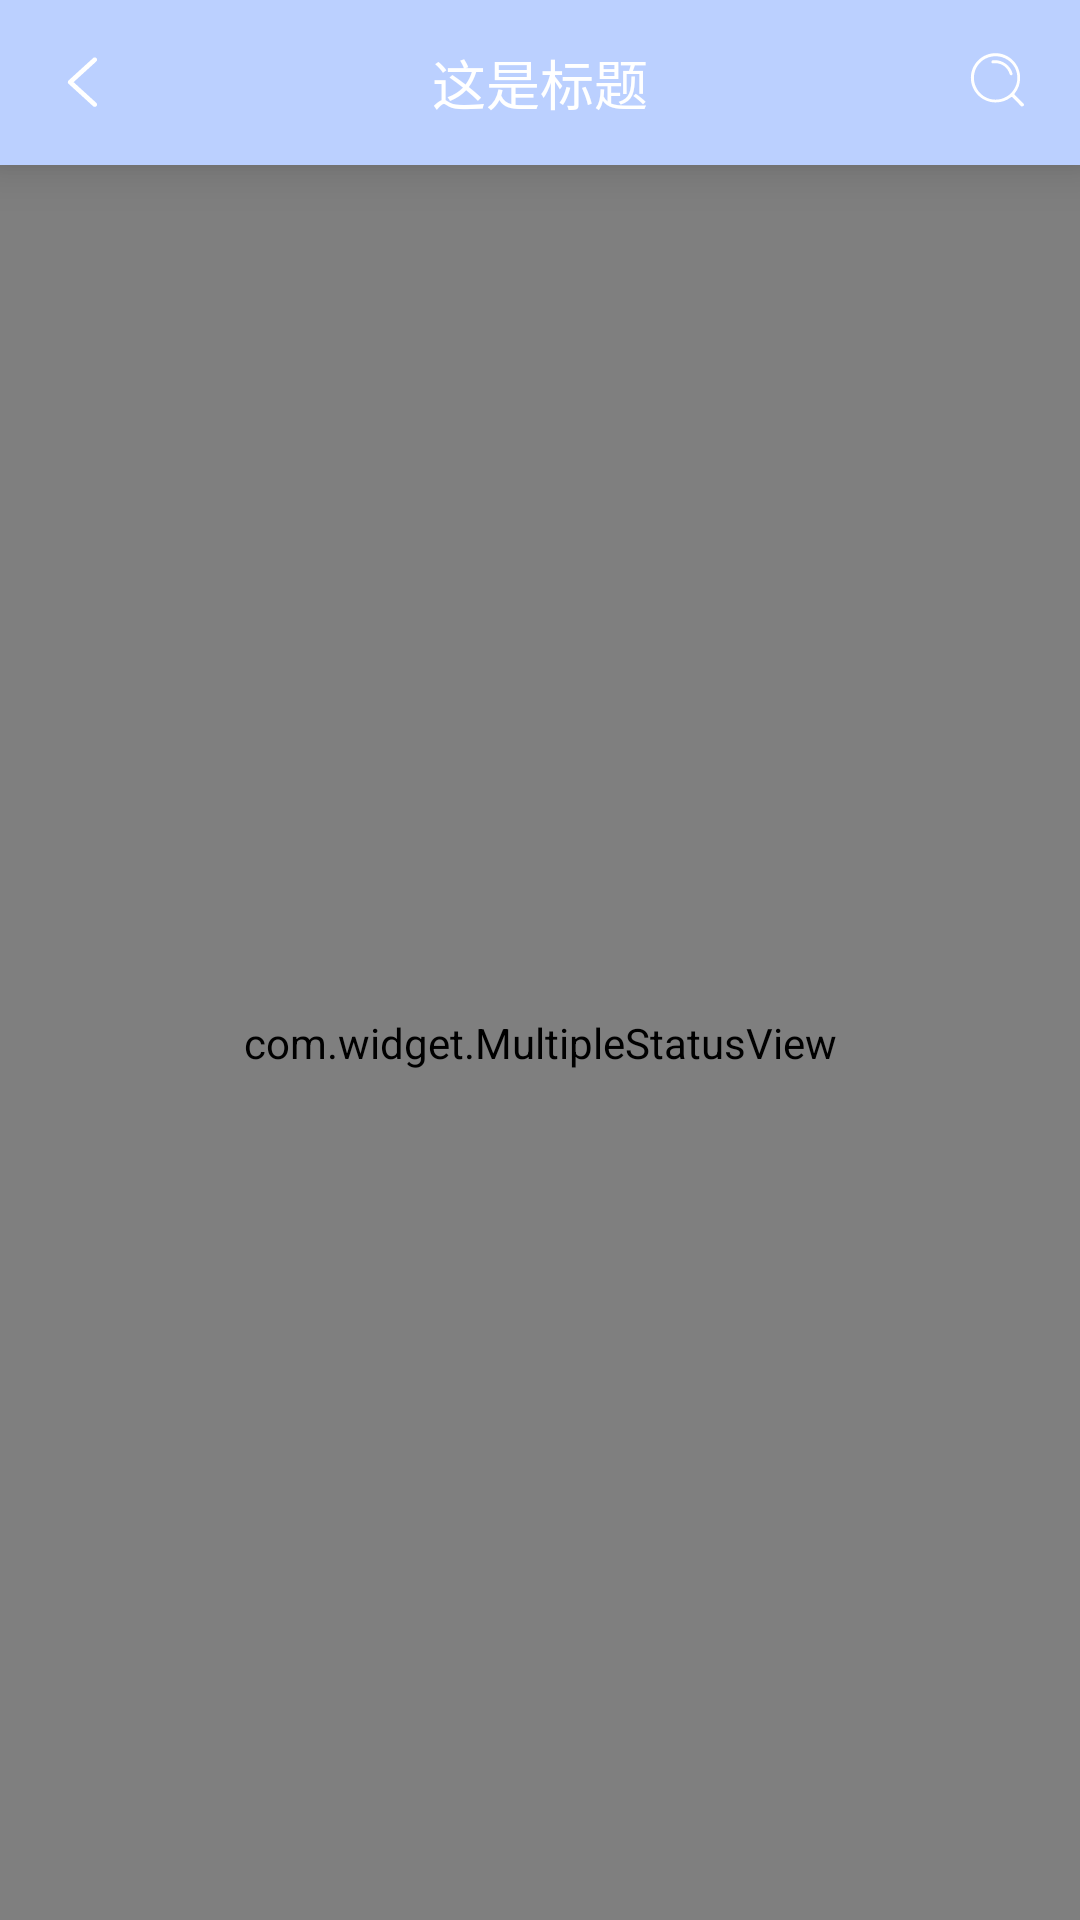

Locate icon controls on the screen. Image size 1080w x 1920h, boxes as {"x1": x1, "y1": y1, "x2": x2, "y2": y2}.
back: {"x1": 68, "y1": 57, "x2": 97, "y2": 107}
search: {"x1": 971, "y1": 53, "x2": 1024, "y2": 107}
